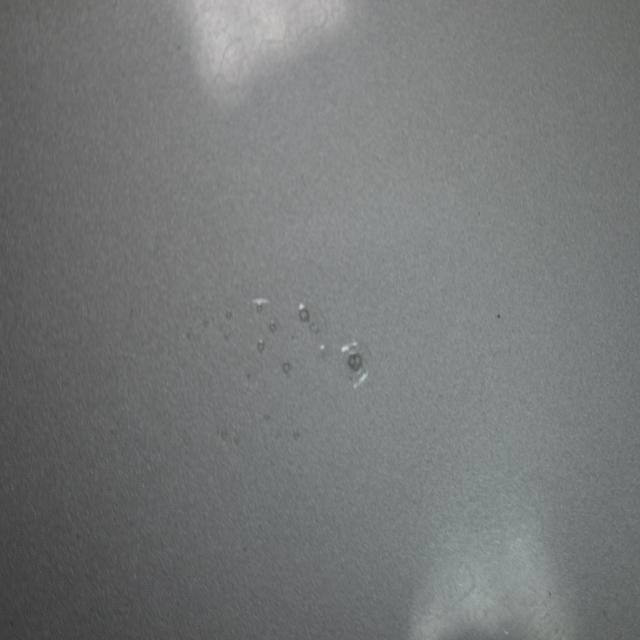dirt: (495, 308, 502, 321)
runs: (189, 294, 371, 468)
water marks: (428, 547, 478, 614)
